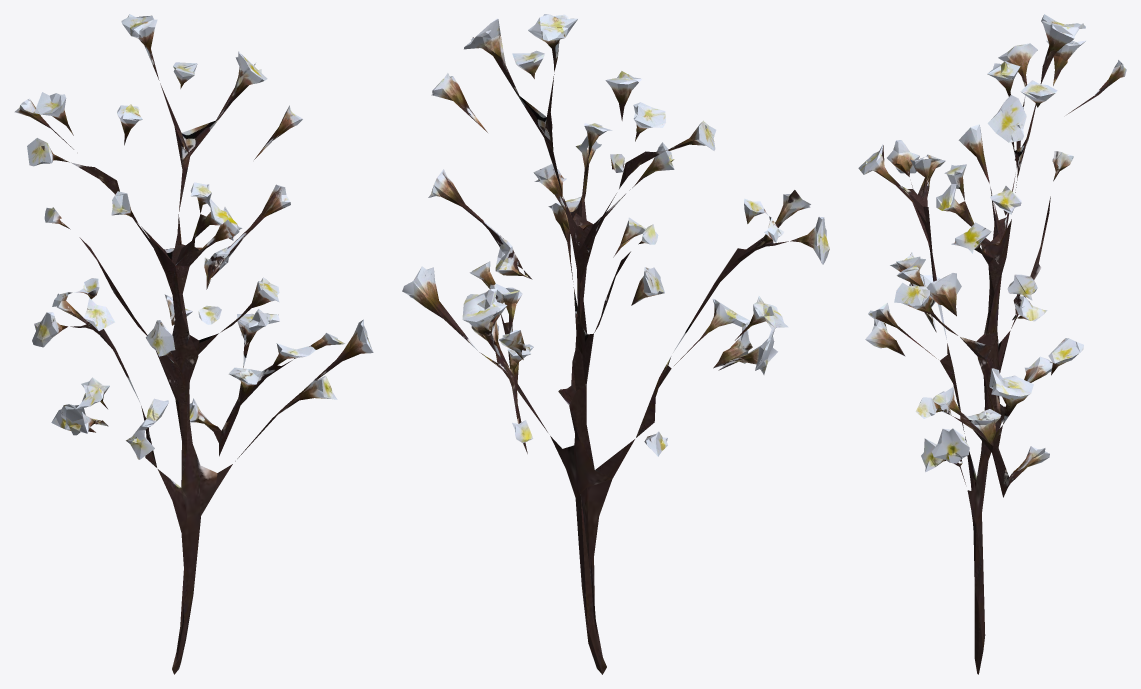
Rendered from barflower.glb.
The picture shows the model from 3 angles, left to right: view 1: azimuth 30°, elevation 25°; view 2: azimuth 150°, elevation 25°; view 3: azimuth 270°, elevation 25°; orthographic projection. The views are drawn at different scales.
Parts seen in each view (by area): view 1: barflower; view 2: barflower; view 3: barflower.
Part boxes in pixels (x1=…): barflower: x1=14, y1=14, x2=373, y2=674; barflower: x1=402, y1=14, x2=829, y2=674; barflower: x1=858, y1=14, x2=1126, y2=674.
Bounding box in the file's own units: 0.7824 × 1.3 × 0.4825.
1 material, 1 textured.
